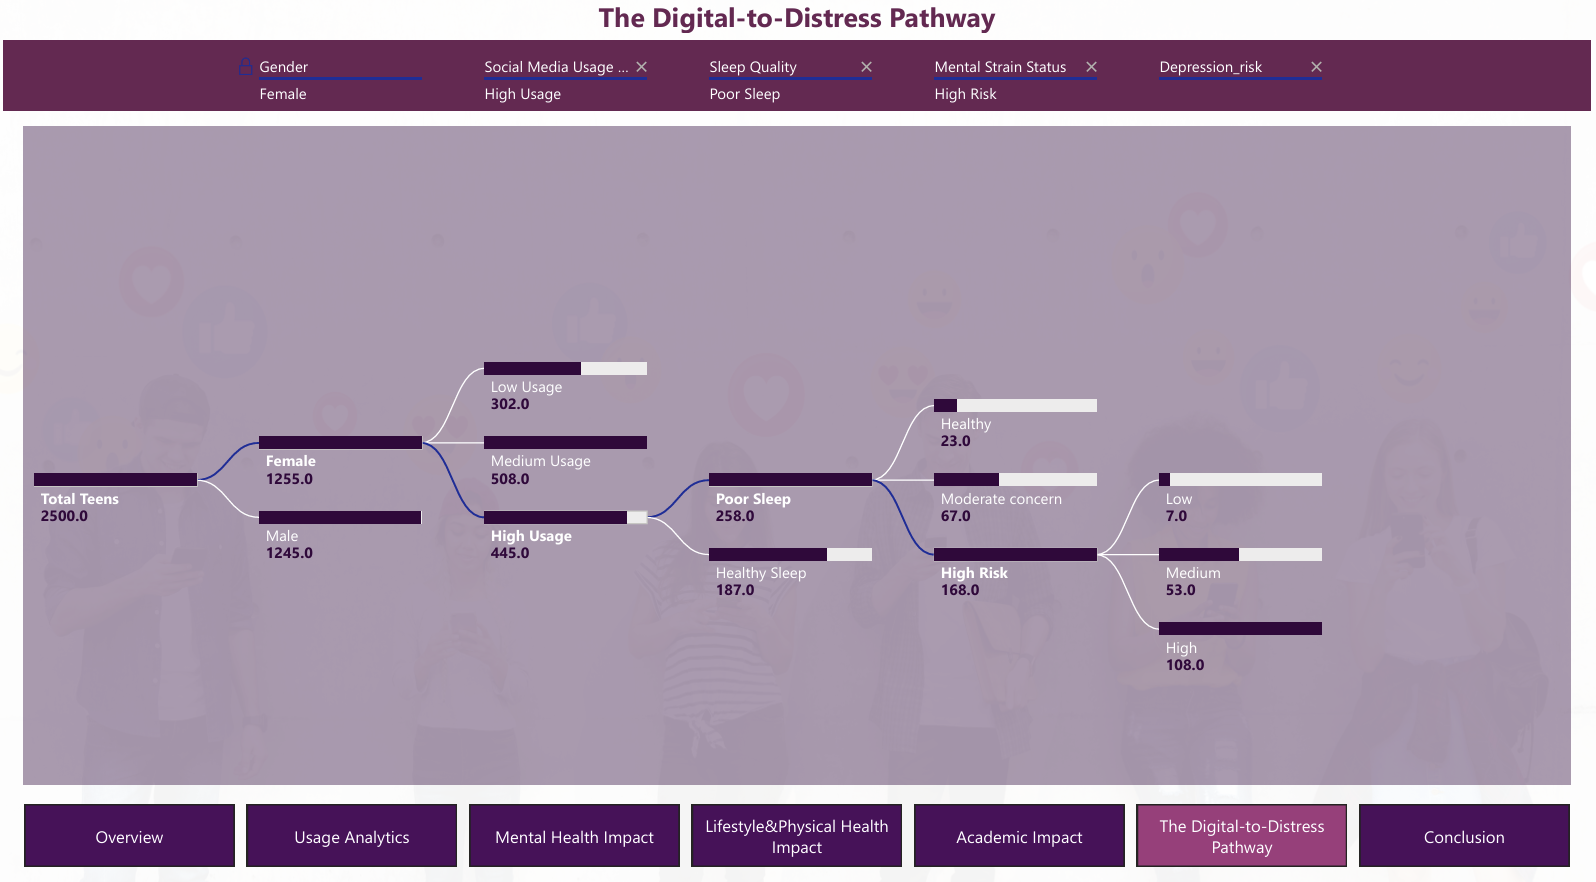

The dashboard page shown, as its layout file describes it:
{"tool":"powerbi","page":{"name":"The Digital-to-Distress Pathway","canvas":[1280,720],"ordinal":5},"visuals":[{"type":"decompositionTreeVisual","title":"The Digital-to-Distress Pathway","fields":{"ExplainBy":["Teen_Mental_Health_Dataset.Gender","Teen_Mental_Health_Dataset.Social Media Usage Status","Teen_Mental_Health_Dataset.Mental Strain Status","Teen_Mental_Health_Dataset.Depression_risk","Teen_Mental_Health_Dataset.Sleep Quality"],"Analyze":["DAX measures.Total Teens"]},"box":[0,0,1279.7,720.2],"z":0},{"type":"pageNavigator","box":[21.6,644.7,1237.6,50],"z":1000}]}

Visuals, with their boxes on the page's 1280x720 design canvas (x1, y1, x2, y2). These are canvas units, not pixel positions in the 1596x882 screenshot, which may show the page scaled, cropped or inside an application window:
"The Digital-to-Distress Pathway" decompositionTreeVisual: select_region(0, 0, 1280, 720)
pageNavigator: select_region(22, 645, 1259, 695)
